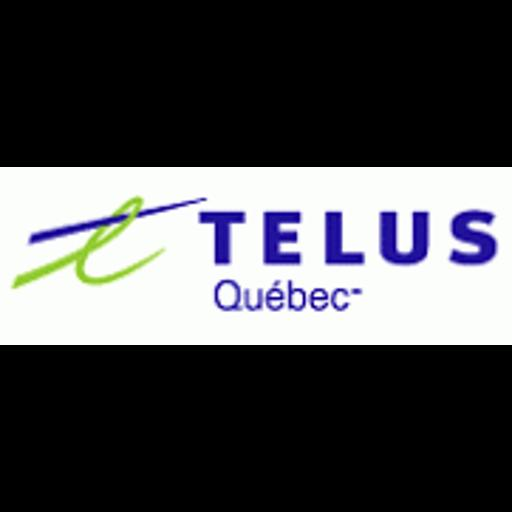Telus: (0, 167, 512, 345)
